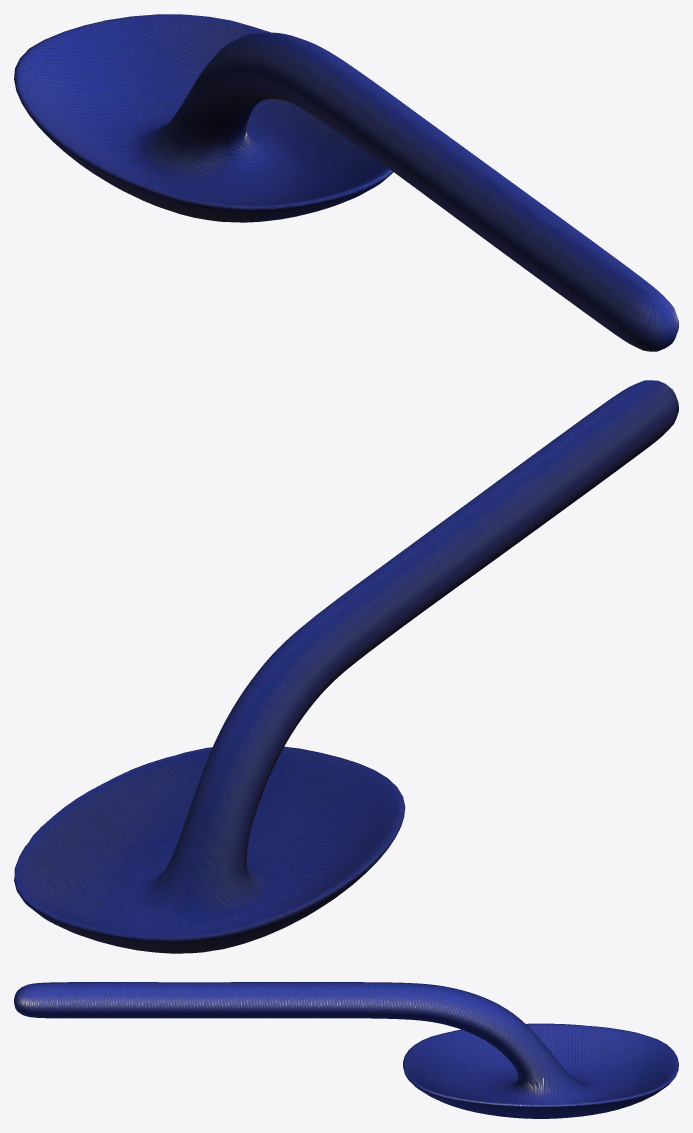
The model's file is 12_Picker.glb.
The picture shows the model from 3 angles, top to bottom: view 1: azimuth 30°, elevation 25°; view 2: azimuth 150°, elevation 25°; view 3: azimuth 270°, elevation 25°; orthographic projection. The views are drawn at different scales.
Parts seen in each view (by area): view 1: 12_Picker; view 2: 12_Picker; view 3: 12_Picker.
Boxes of the visible parts, bbox=[...] form: 12_Picker: bbox=[14, 14, 678, 351]; 12_Picker: bbox=[14, 380, 678, 953]; 12_Picker: bbox=[14, 982, 678, 1118].
Bounding box in the file's own units: 0.0453 × 0.0316 × 0.1559.
Materials: 1 (1 with a texture image).
